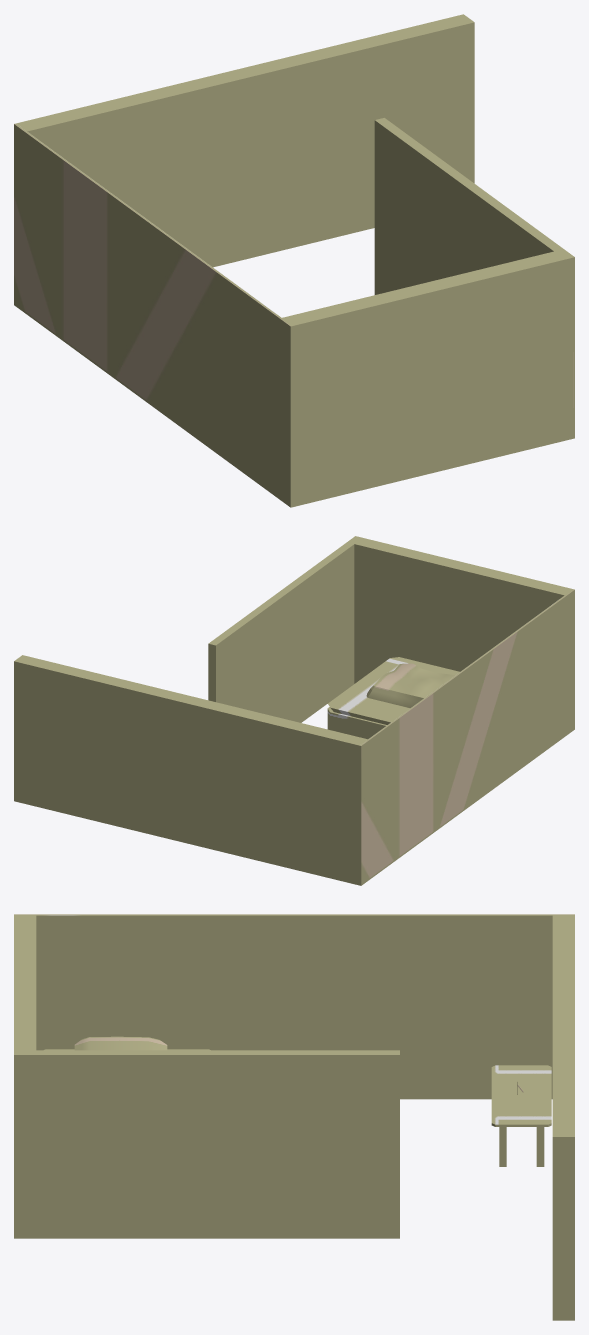
File: room.fbx
3 renders of one model, top to bottom at view 1: azimuth 30°, elevation 25°; view 2: azimuth 150°, elevation 25°; view 3: azimuth 270°, elevation 25°, orthographic. The views are drawn at different scales.
Visible parts, largest first — view 1: wall; view 2: wall, bed, quilt; view 3: wall, desk, pillow.
Boxes of the visible parts, left/top/right/bottom form: wall: left=14, top=14, right=574, bottom=507; wall: left=14, top=536, right=574, bottom=885; bed: left=327, top=657, right=459, bottom=739; quilt: left=366, top=663, right=454, bottom=708; wall: left=14, top=914, right=574, bottom=1320; desk: left=491, top=1065, right=551, bottom=1166; pillow: left=74, top=1036, right=167, bottom=1050.
Bounding box in the file's own units: 203 × 81.12 × 216.
Materials: 2 (2 with a texture image).
